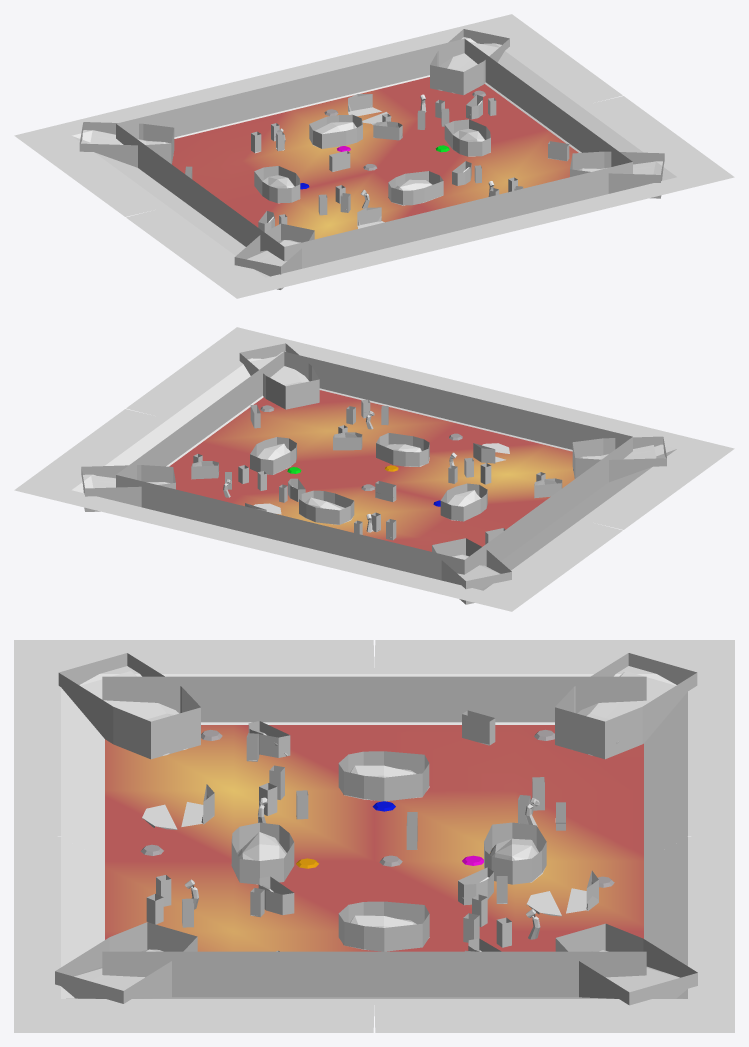
Rendered from Multiplayer_Sojourner.fbx.
3 views of the same model, one above another, from view 1: azimuth 30°, elevation 25°; view 2: azimuth 150°, elevation 25°; view 3: azimuth 270°, elevation 25° (orthographic). The views are drawn at different scales.
Visible parts, largest first — view 1: GeometryWalls, GeometryGround, Boundary, DecorBoundary Rock004.001, DecorBoundary Rock004.003, DecorBoundary Rock004.004, DecorBoundary Rock004.002, DecorBoundary Rock003.003, DecorBoundary Rock003.002, DecorBoundary Rock003.001, DecorBoundary Rock003, Decor Rock001; view 2: GeometryWalls, GeometryGround, Boundary, DecorBoundary Rock004.002, DecorBoundary Rock004.004, DecorBoundary Rock004.003, DecorBoundary Rock004.001, DecorBoundary Rock003.003, DecorBoundary Rock003.002, DecorBoundary Rock003, DecorBoundary Rock003.001, Decor Rock001.001 (+1 smaller); view 3: GeometryWalls, GeometryGround, Boundary, DecorBoundary Rock004.002, DecorBoundary Rock004.001, DecorBoundary Rock004.004, DecorBoundary Rock004.003, DecorBoundary Rock003.001, DecorBoundary Rock003, DecorBoundary Rock003.002, DecorBoundary Rock003.003, Decor Rock001.002 (+12 smaller).
Part boxes in pixels (x1,y1,x2,y2): GeometryWalls: (14,14,734,298); GeometryGround: (172,77,578,239); Boundary: (116,38,632,268); DecorBoundary Rock004.001: (79,122,174,167); DecorBoundary Rock004.003: (430,29,509,95); DecorBoundary Rock004.004: (570,151,664,198); DecorBoundary Rock004.002: (234,223,314,289); DecorBoundary Rock003.003: (388,171,443,205); DecorBoundary Rock003.002: (309,114,362,148); DecorBoundary Rock003.001: (444,119,490,156); DecorBoundary Rock003: (254,166,300,203); Decor Rock001: (438,41,498,93); GeometryWalls: (14,327,734,611); GeometryGround: (169,390,574,551); Boundary: (116,351,632,580); DecorBoundary Rock004.002: (572,436,666,482); DecorBoundary Rock004.004: (239,343,319,409); DecorBoundary Rock004.003: (81,465,175,511); DecorBoundary Rock004.001: (432,538,511,604); DecorBoundary Rock003.003: (376,433,429,466); DecorBoundary Rock003.002: (299,490,354,524); DecorBoundary Rock003: (440,483,487,521); DecorBoundary Rock003.001: (250,437,296,474); Decor Rock001.001: (250,356,309,386); GeometryWalls: (14,640,734,1032); GeometryGround: (105,725,643,951); Boundary: (102,676,646,997); DecorBoundary Rock004.002: (58,653,200,759); DecorBoundary Rock004.001: (555,653,697,759); DecorBoundary Rock004.004: (55,922,197,1003); DecorBoundary Rock004.003: (555,923,697,1005); DecorBoundary Rock003.001: (338,901,429,951); DecorBoundary Rock003: (338,751,429,801); DecorBoundary Rock003.002: (484,822,546,884); DecorBoundary Rock003.003: (231,822,294,884); Decor Rock001.002: (577,671,675,755).
Bounding box in the file's own units: 17951 × 1298 × 13924.
